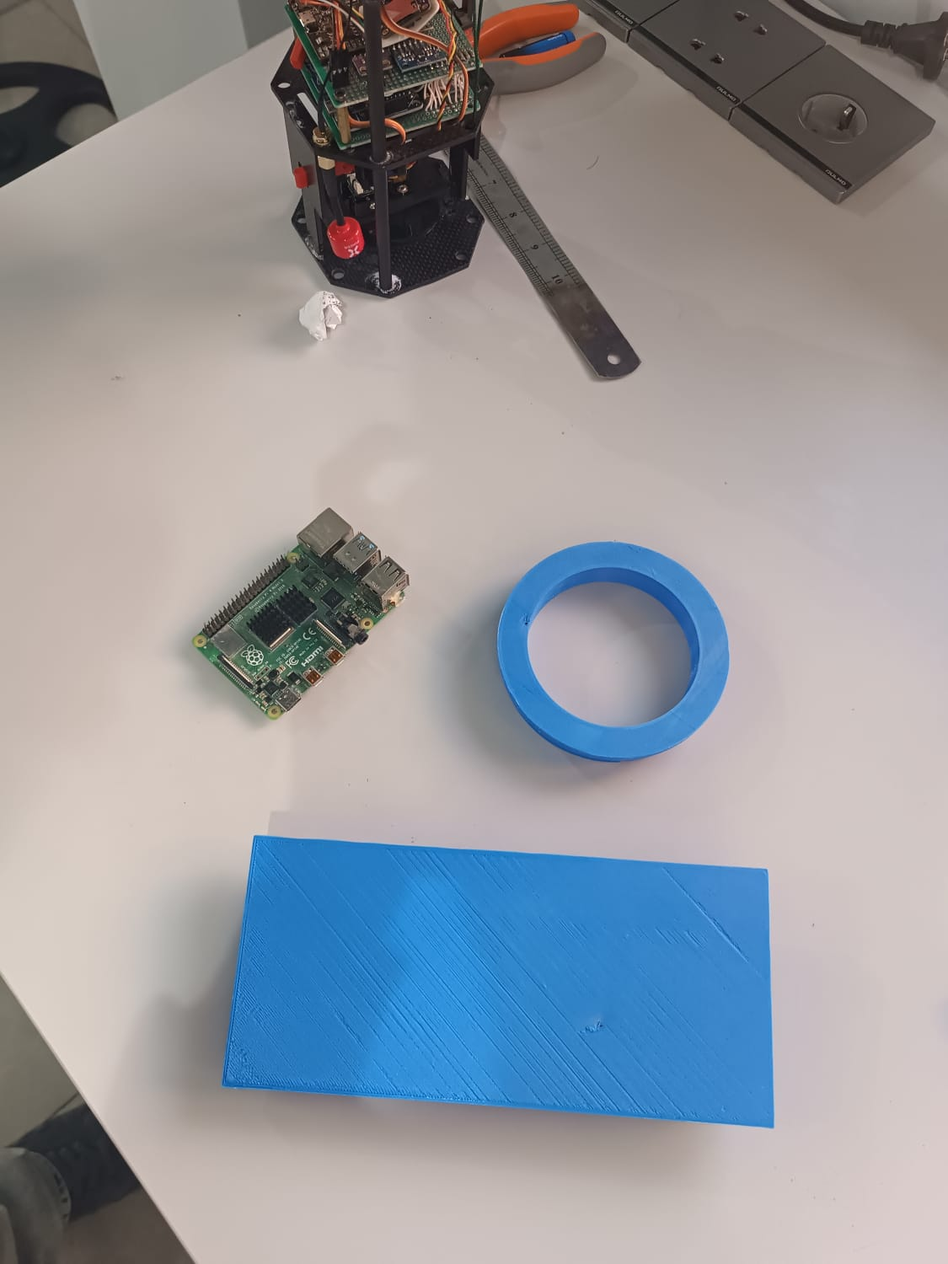Circle: (486, 528, 738, 769)
Rectangular: (215, 824, 785, 1137)
